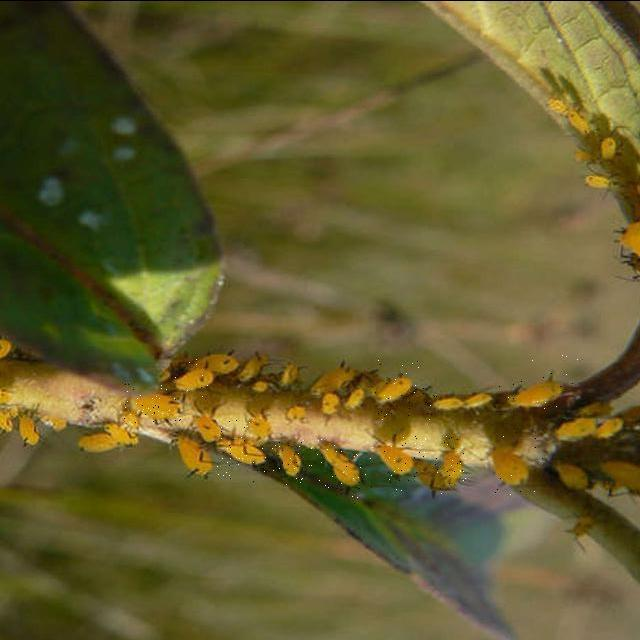aphid: (493, 352, 578, 417), (489, 422, 545, 497), (309, 438, 375, 498), (374, 358, 437, 418), (216, 418, 267, 481), (376, 434, 426, 491), (122, 382, 183, 424), (368, 352, 439, 385), (169, 357, 216, 404), (433, 435, 467, 493), (272, 438, 312, 484), (78, 424, 139, 454), (176, 434, 214, 479), (598, 460, 638, 496), (556, 462, 590, 491), (203, 353, 240, 375), (18, 414, 42, 447), (196, 413, 222, 443), (247, 412, 273, 440), (594, 418, 624, 440), (279, 362, 303, 387), (345, 387, 366, 411), (42, 414, 68, 432), (321, 392, 340, 416), (121, 410, 141, 431), (600, 136, 617, 160), (0, 407, 15, 433), (286, 404, 306, 422), (0, 388, 16, 406), (250, 380, 270, 393)
